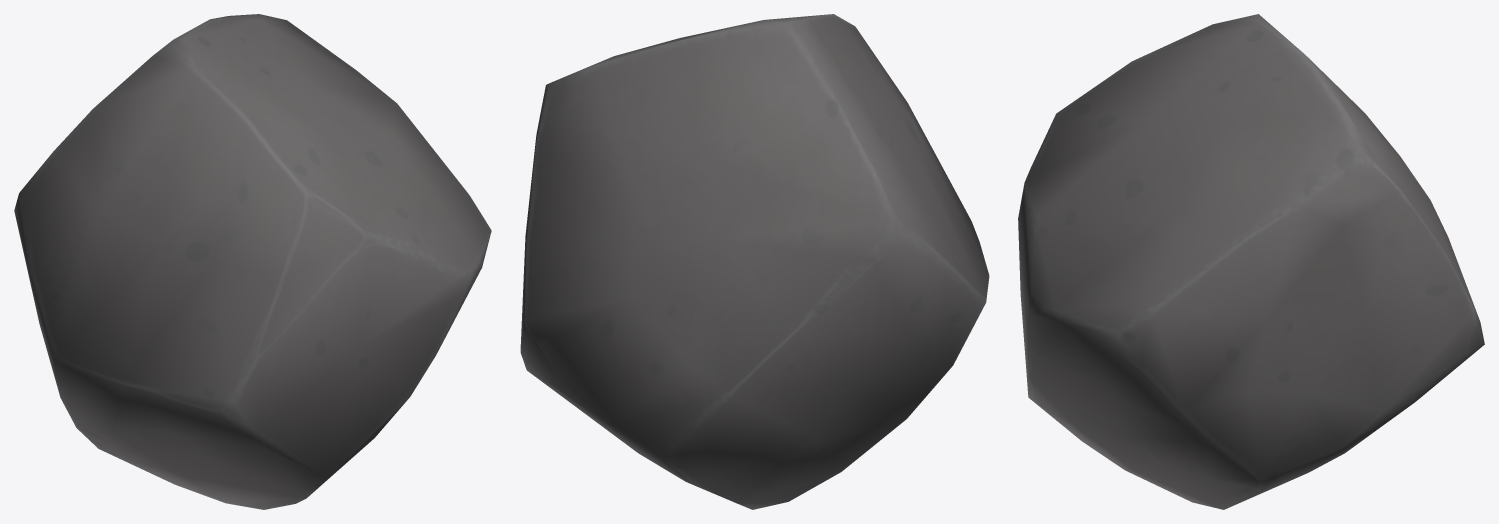
File: stylizedrock01.glb
3 renders of one model, left to right at view 1: azimuth 30°, elevation 25°; view 2: azimuth 150°, elevation 25°; view 3: azimuth 270°, elevation 25°, orthographic. The views are drawn at different scales.
Parts seen in each view (by area): view 1: stylizedRock01; view 2: stylizedRock01; view 3: stylizedRock01.
Boxes of the visible parts, <box> form: stylizedRock01: <box>14,14,491,509</box>; stylizedRock01: <box>520,14,989,509</box>; stylizedRock01: <box>1018,14,1484,509</box>.
Size of what is drawn, in the model's own units: 1.82 by 1.99 by 1.82.
1 material, 1 textured.
